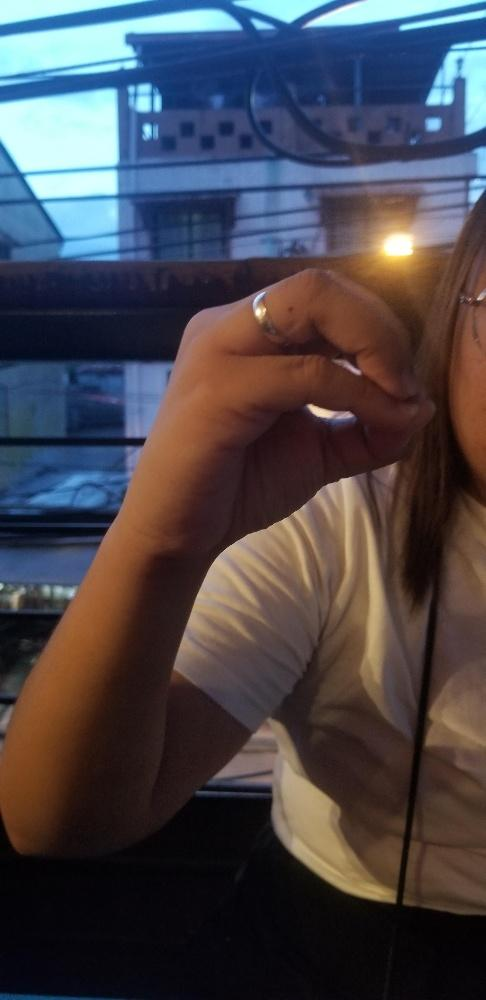o: (147, 264, 435, 546)
